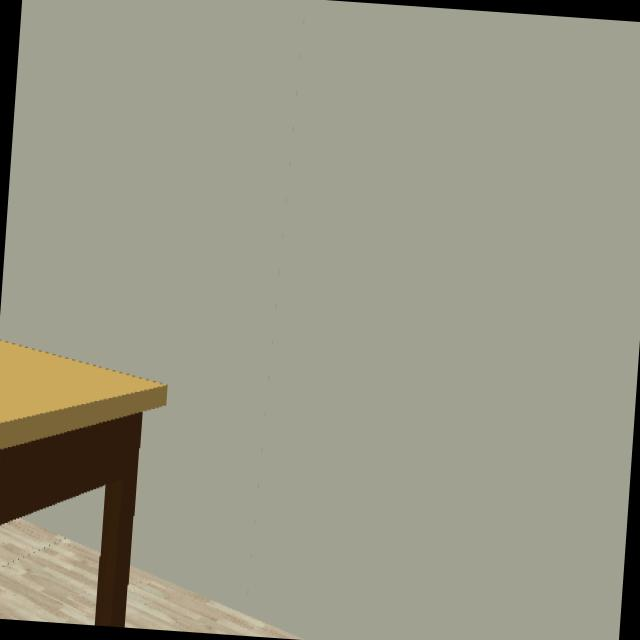table: (0, 342, 166, 625)
